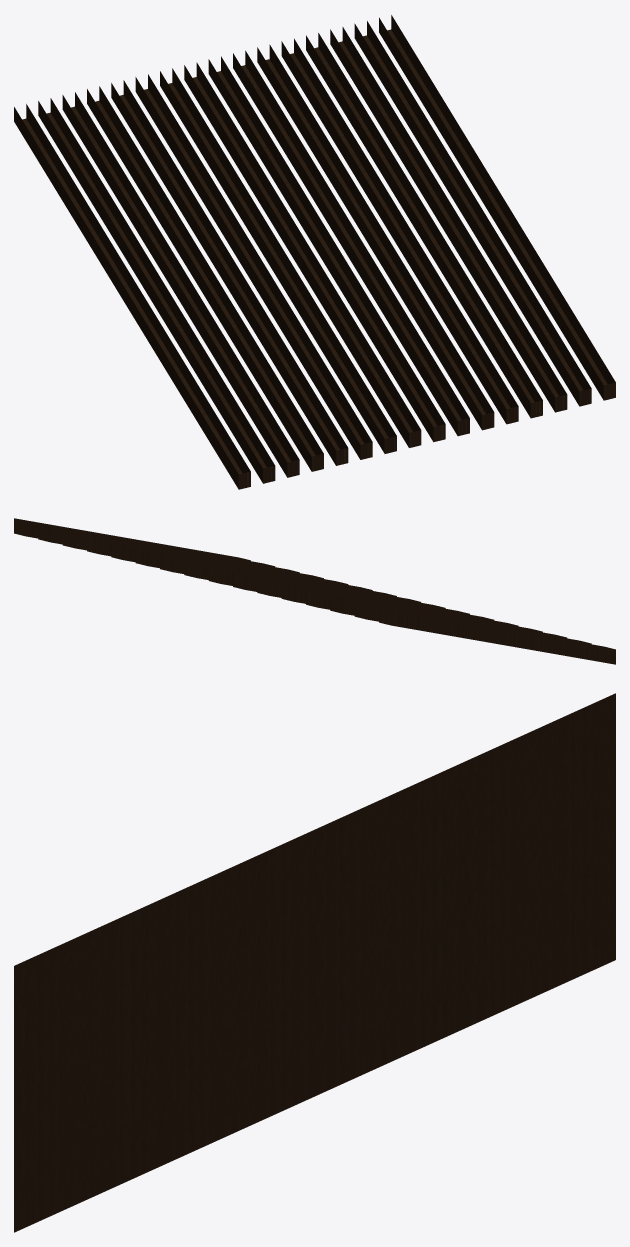
File: out-g-wall-c.fbx
3 renders of one model, top to bottom at view 1: azimuth 30°, elevation 25°; view 2: azimuth 150°, elevation 25°; view 3: azimuth 270°, elevation 25°, orthographic. The views are drawn at different scales.
Parts seen in each view (by area): view 1: Plane.003_Baked; view 2: Plane.003_Baked; view 3: Plane.003_Baked.
Boxes of the visible parts, x1,y1,x2,y2 form: Plane.003_Baked: (14, 15, 615, 489); Plane.003_Baked: (14, 518, 615, 664); Plane.003_Baked: (14, 693, 615, 1232).
Size of the model in its own units: 387 by 215 by 400.
Materials: 1 (1 with a texture image).
